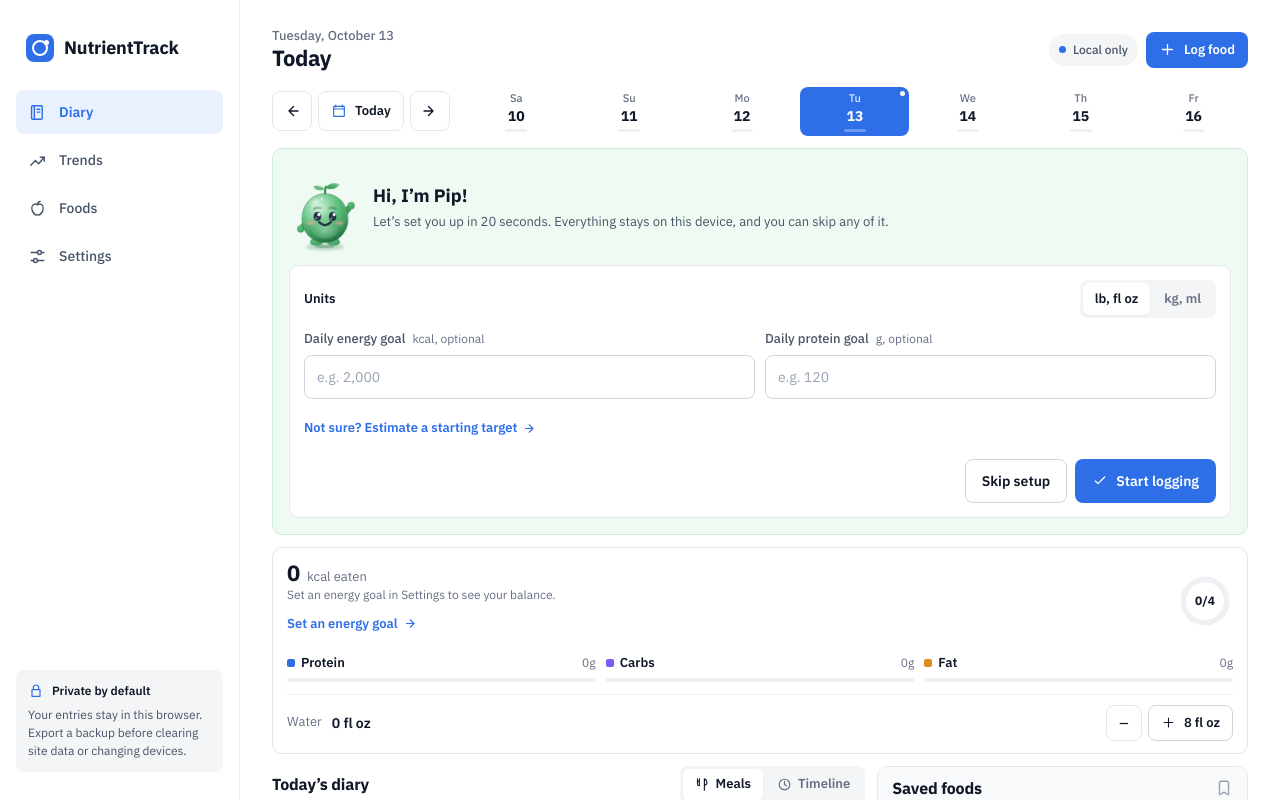
Test: write failures surface as error toasts › shows an error and keeps the dialog open when saving a weight fails
Click the button "Trends" at [120, 160], box x1=16 y1=138 x2=223 y2=182
(page scrolled)
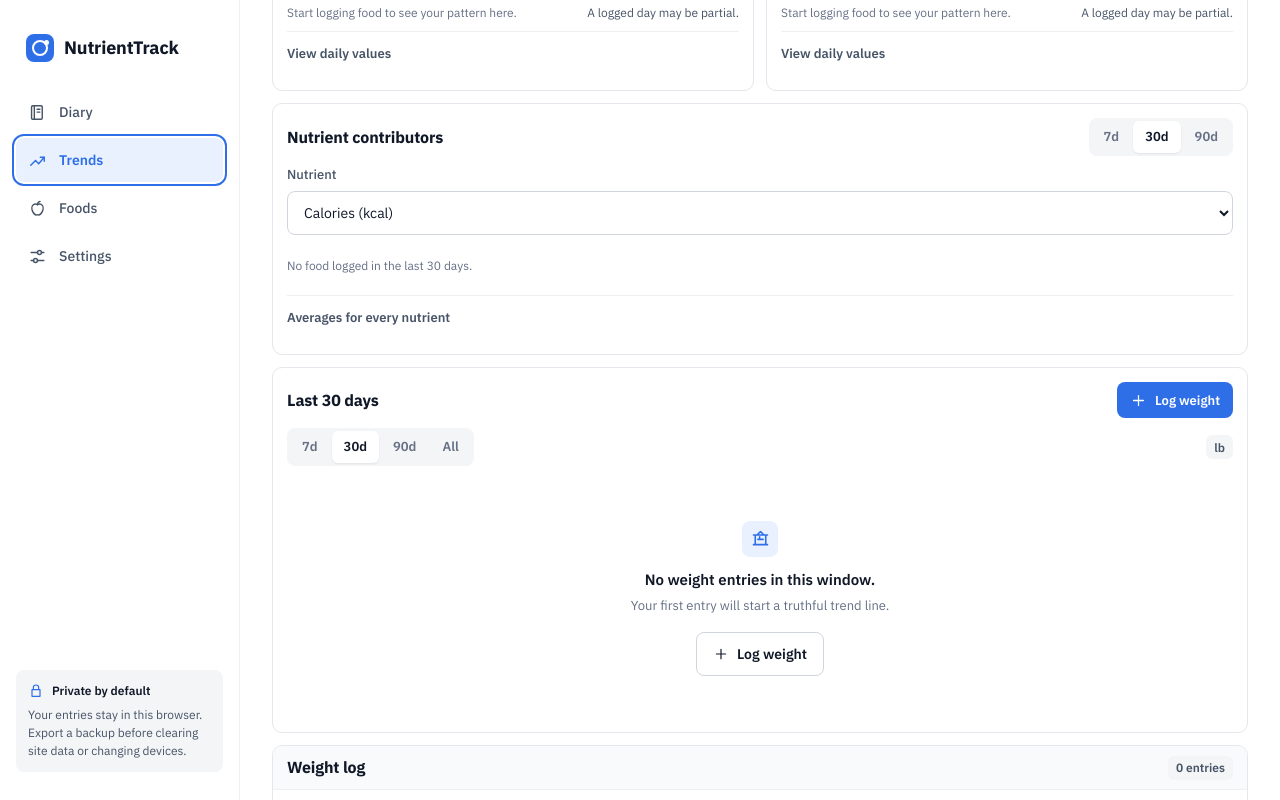
Click the 1st button "Log weight" at [1175, 400], box x1=1117 y1=382 x2=1233 y2=418
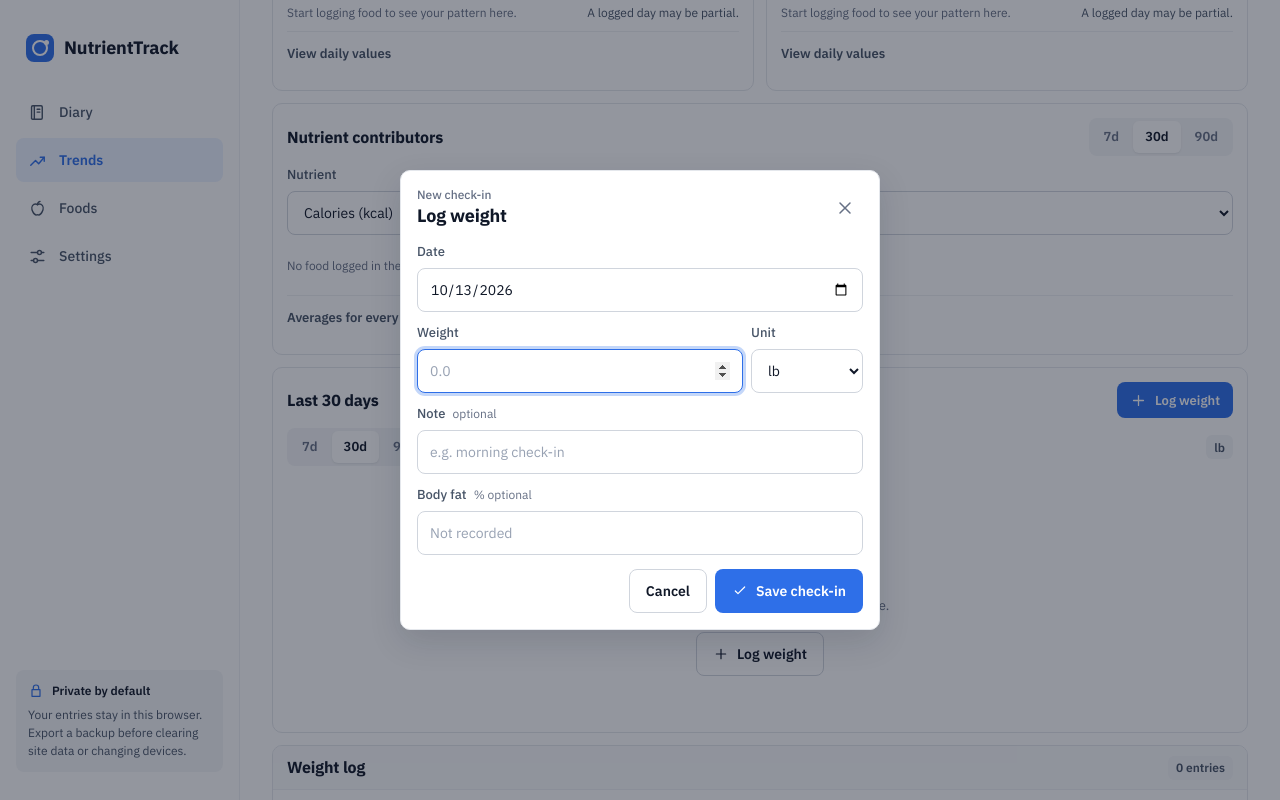
Type "180" into the number field labelled "Weight" at [580, 371], box x1=417 y1=349 x2=743 y2=393
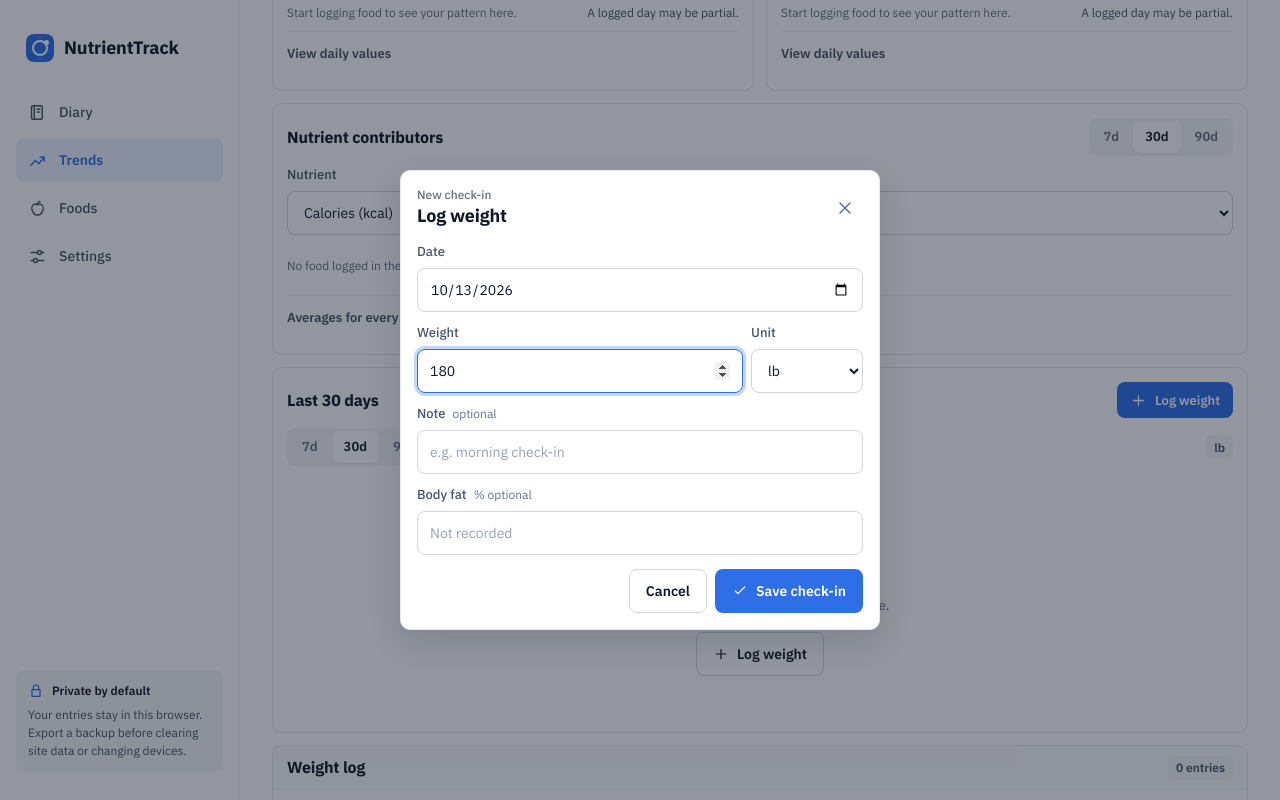
Click the button "Save check-in" at [789, 590], box x1=715 y1=568 x2=863 y2=612
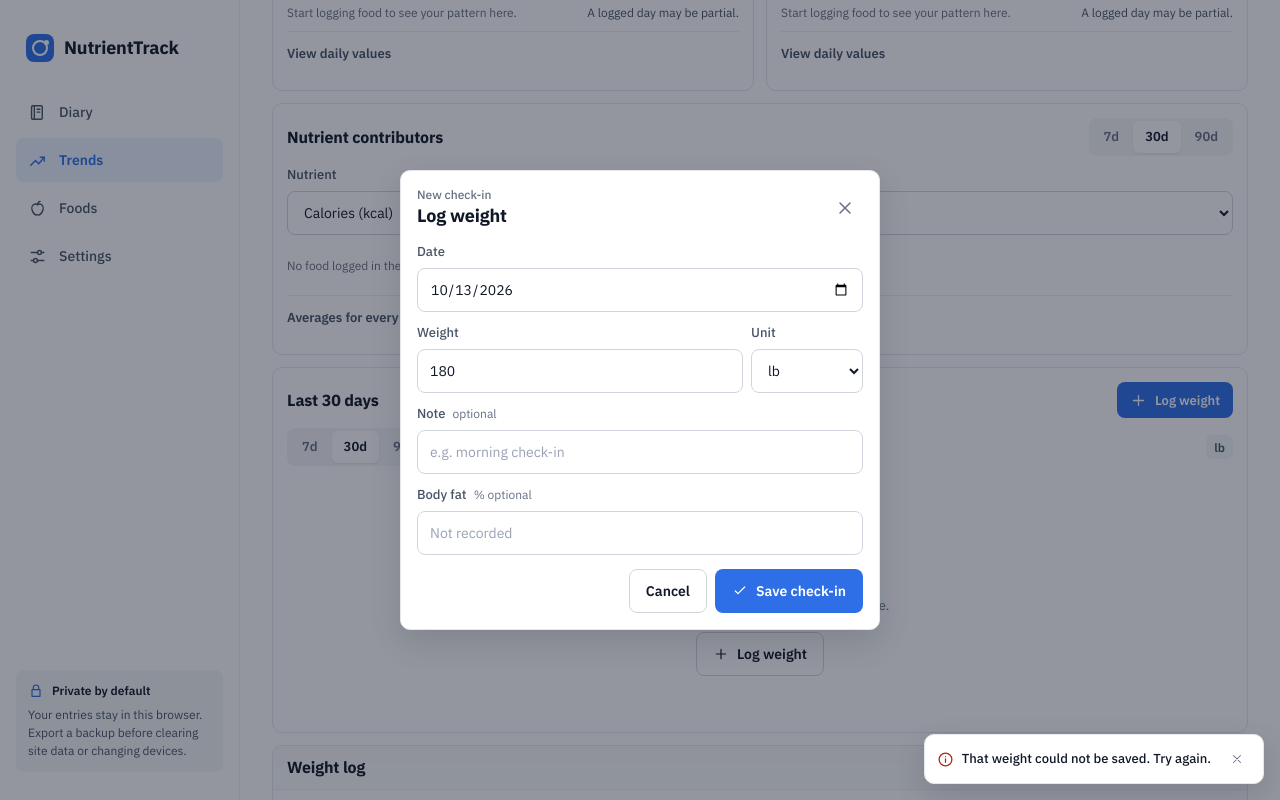
Check: the dialog "Log weight" is shown, box x1=400 y1=170 x2=880 y2=630
Check: the button "Save check-in" is enabled, box x1=715 y1=568 x2=863 y2=612
Check: the text "That weight could not be saved. Try again." is shown, box x1=962 y1=750 x2=1211 y2=768
